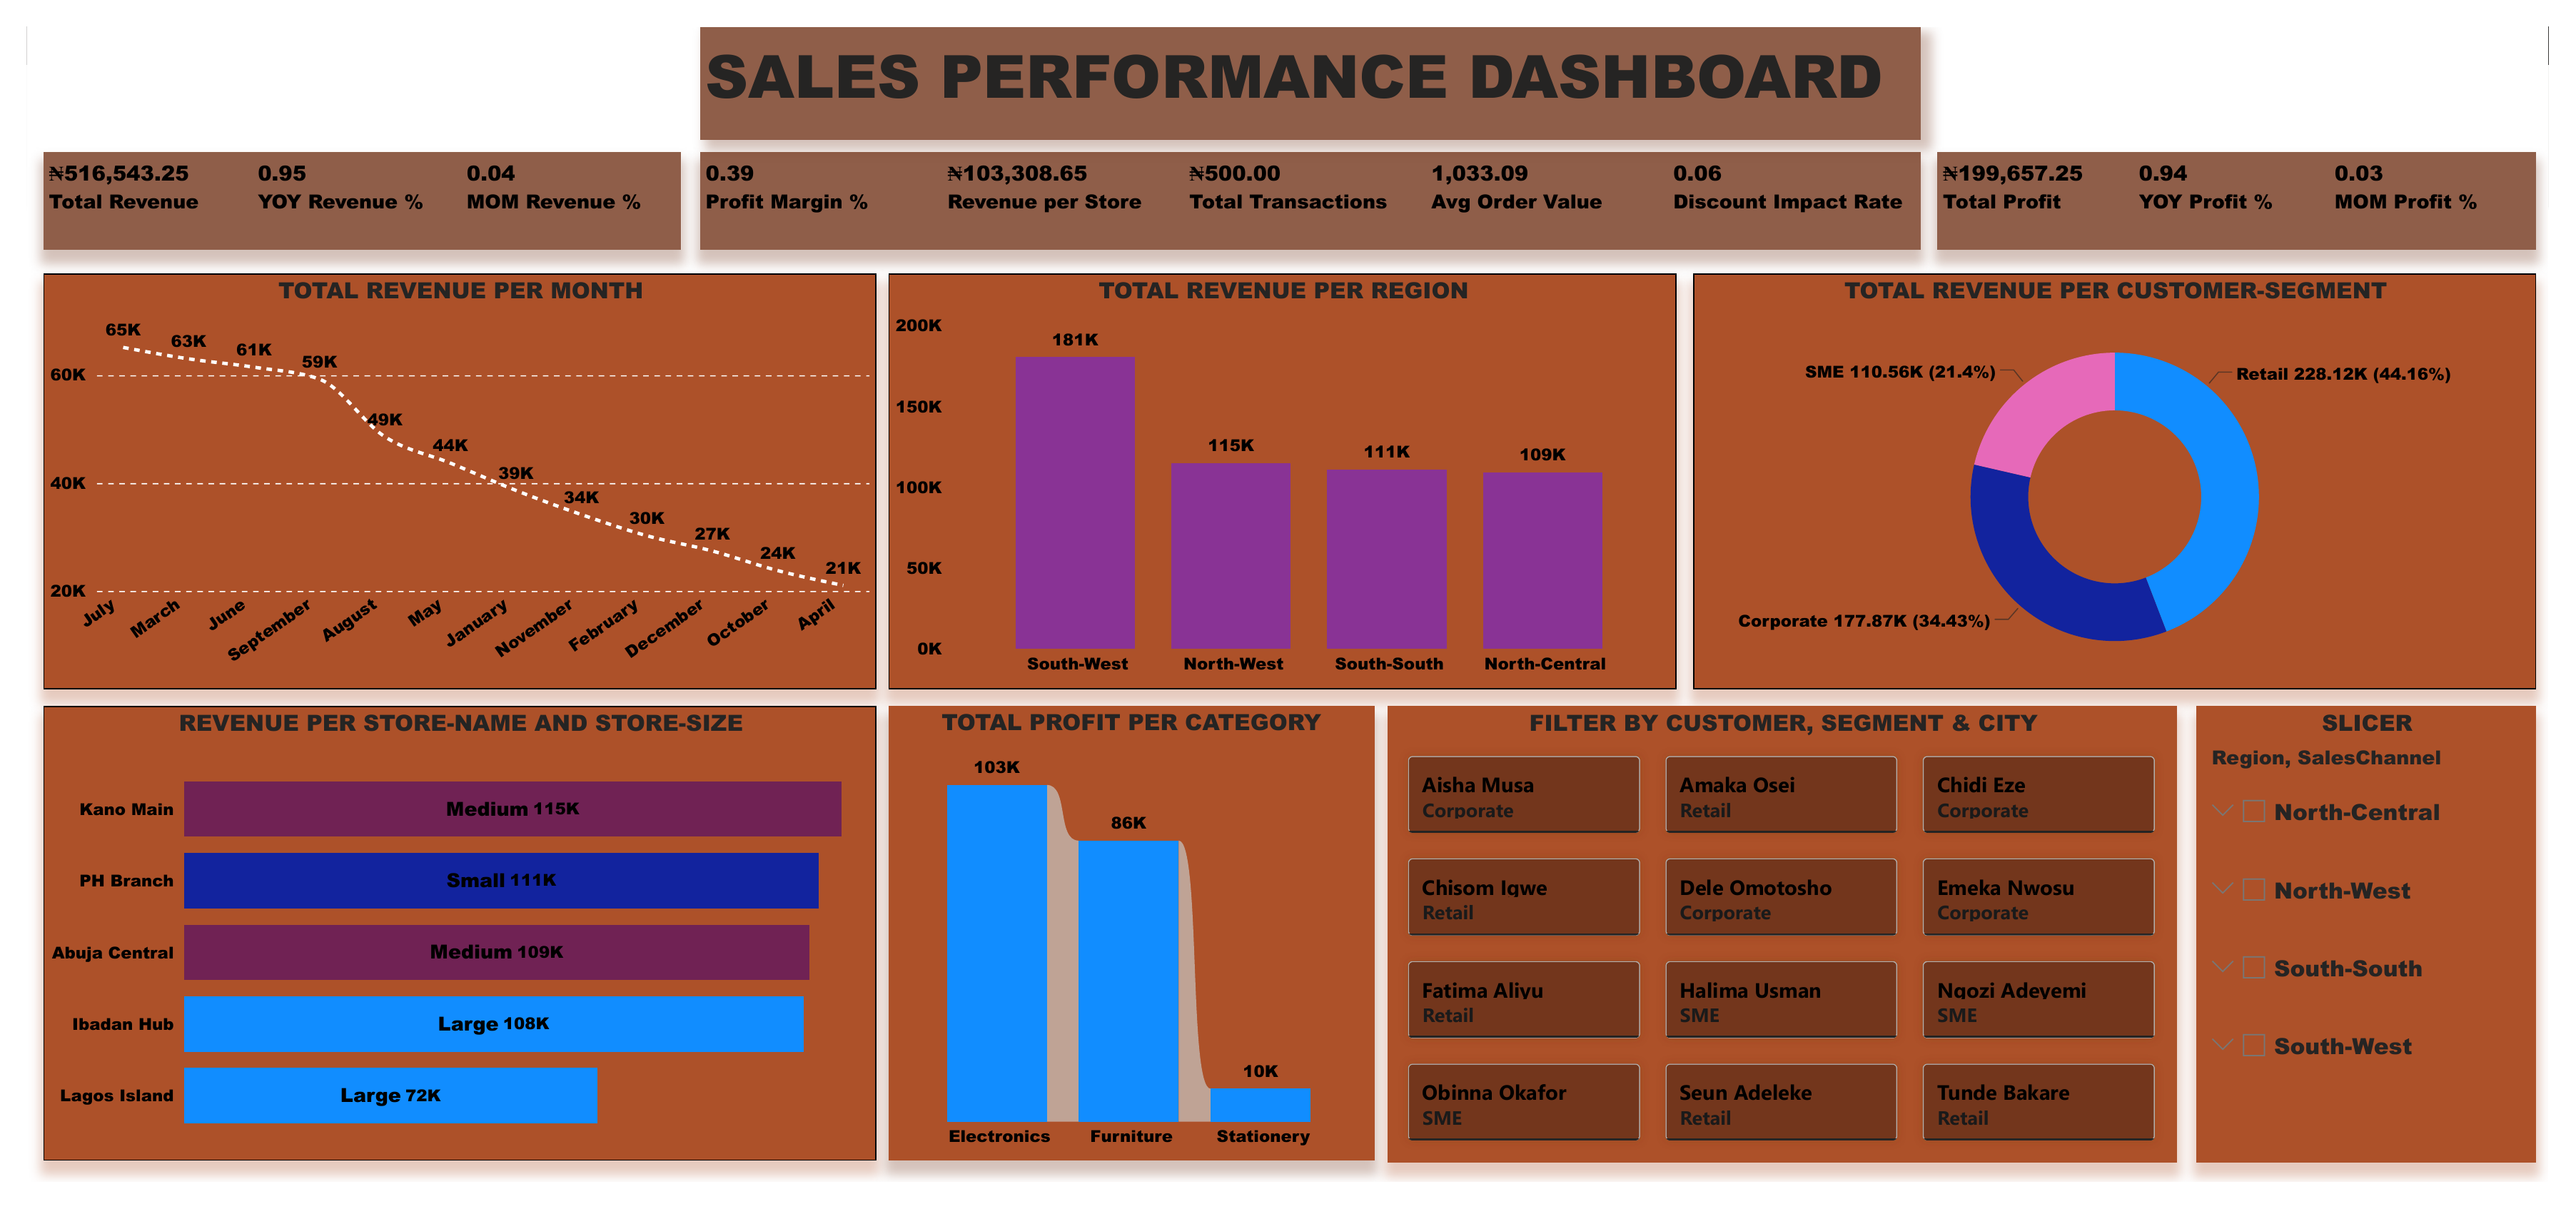

The dashboard page shown, as its layout file describes it:
{"tool":"powerbi","page":{"name":"KPI","canvas":[2262,1036],"ordinal":0},"visuals":[{"type":"multiRowCard","fields":{"Values":["_Measures.Total Revenue","YOY Measures.YOY Revenue %","MOM Measures.MOM Revenue %"]},"box":[14.7,111.6,572.7,88.4],"z":0},{"type":"multiRowCard","fields":{"Values":["_Measures.Total Profit","YOY Measures.YOY Profit %","MOM Measures.MOM Profit %"]},"box":[1714,111.6,537,88.4],"z":1000},{"type":"multiRowCard","fields":{"Values":["_Measures.Profit Margin %","_Measures.Revenue per Store","_Measures.Total Transactions","_Measures.Avg Order Value","_Measures.Discount Impact Rate"]},"box":[604.3,111.6,1095,88.4],"z":2000},{"type":"lineChart","title":"TOTAL REVENUE PER  MONTH","fields":{"Category":["DimDate.MonthName"],"Y":["_Measures.Total Revenue"]},"box":[14.7,221.1,747.5,372.7],"z":3000},{"type":"clusteredColumnChart","title":"TOTAL REVENUE PER REGION ","fields":{"Category":["DimStore.Region"],"Y":["_Measures.Total Revenue"]},"box":[772.8,221.1,707.5,372.7],"z":4000},{"type":"barChart","title":"REVENUE PER STORE-NAME  AND STORE-SIZE","fields":{"Category":["DimStore.StoreName"],"Series":["DimStore.StoreSize"],"Y":["_Measures.Revenue per Store"]},"box":[14.7,608.5,747.5,408.5],"z":5000},{"type":"donutChart","title":"TOTAL REVENUE PER CUSTOMER-SEGMENT","fields":{"Category":["Dimcustomers.CustomerSegment"],"Y":["_Measures.Total Revenue"]},"box":[1495,221.1,755.9,372.7],"z":6000},{"type":"textbox","box":[604.3,0,1095,101.1],"z":7000},{"type":"columnChart","title":"TOTAL PROFIT PER CATEGORY","fields":{"Category":["DimProducts.Category"],"Y":["_Measures.Total Profit"]},"box":[772.8,608.5,435.9,408.5],"z":8000},{"type":"advancedSlicerVisual","title":"FILTER BY CUSTOMER, SEGMENT & CITY","fields":{"Label":["Min(Dimcustomers.CustomerSegment)"],"Values":["Dimcustomers.FullName"]},"box":[1221.3,608.5,707.5,410.6],"z":9000},{"type":"slicer","title":"SLICER","fields":{"Values":["DimStore.Region","salesfact.SalesChannel"]},"box":[1945.7,608.5,305.3,410.6],"z":10000}]}

Visuals, with their boxes in screenshot pixels (x1, y1, x2, y2):
multiRowCard - _Measures.Total Revenue x YOY Measures.YOY Revenue %: x1=30, y1=146, x2=673, y2=245
multiRowCard - _Measures.Total Profit x YOY Measures.YOY Profit %: x1=1939, y1=146, x2=2542, y2=245
multiRowCard - _Measures.Profit Margin % x _Measures.Revenue per Store: x1=692, y1=146, x2=1922, y2=245
"TOTAL REVENUE PER  MONTH" lineChart: x1=30, y1=268, x2=869, y2=687
"TOTAL REVENUE PER REGION " clusteredColumnChart: x1=882, y1=268, x2=1676, y2=687
"REVENUE PER STORE-NAME  AND STORE-SIZE" barChart: x1=30, y1=704, x2=869, y2=1162
"TOTAL REVENUE PER CUSTOMER-SEGMENT" donutChart: x1=1692, y1=268, x2=2541, y2=687
textbox: x1=692, y1=20, x2=1922, y2=133
"TOTAL PROFIT PER CATEGORY" columnChart: x1=882, y1=704, x2=1371, y2=1162
"FILTER BY CUSTOMER, SEGMENT & CITY" advancedSlicerVisual: x1=1385, y1=704, x2=2180, y2=1165
"SLICER" slicer: x1=2198, y1=704, x2=2542, y2=1165
